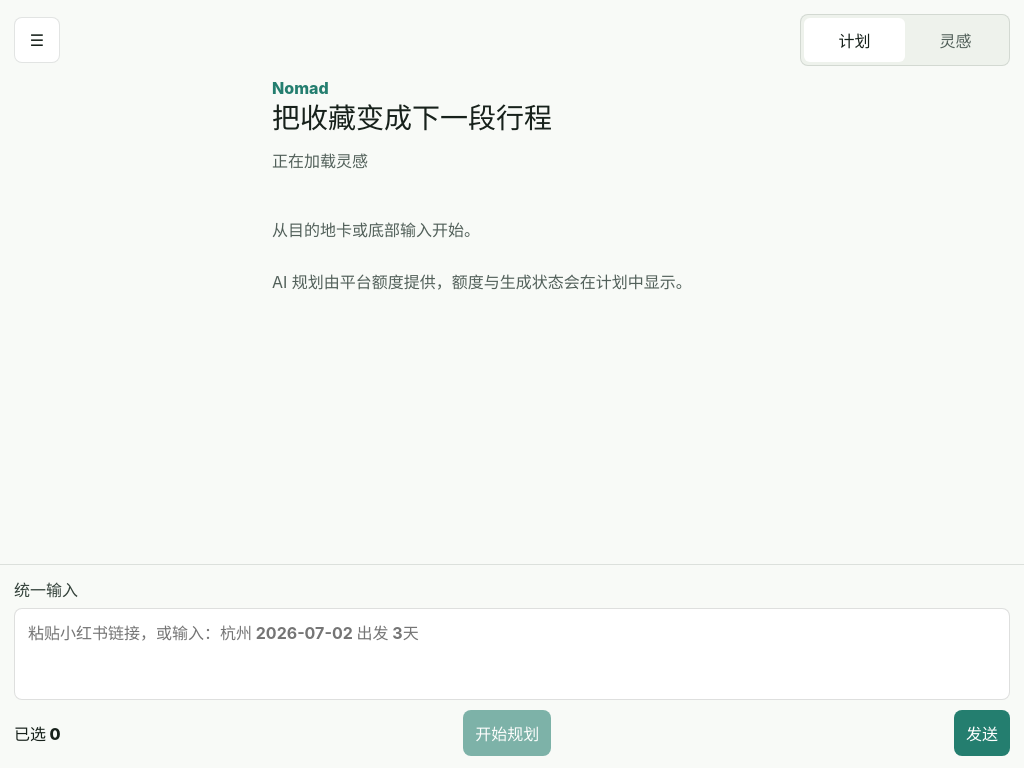
App › opens Settings from the authenticated Home menu
Click the button named "菜单". click: (37, 40)
box: [14,17,60,63]
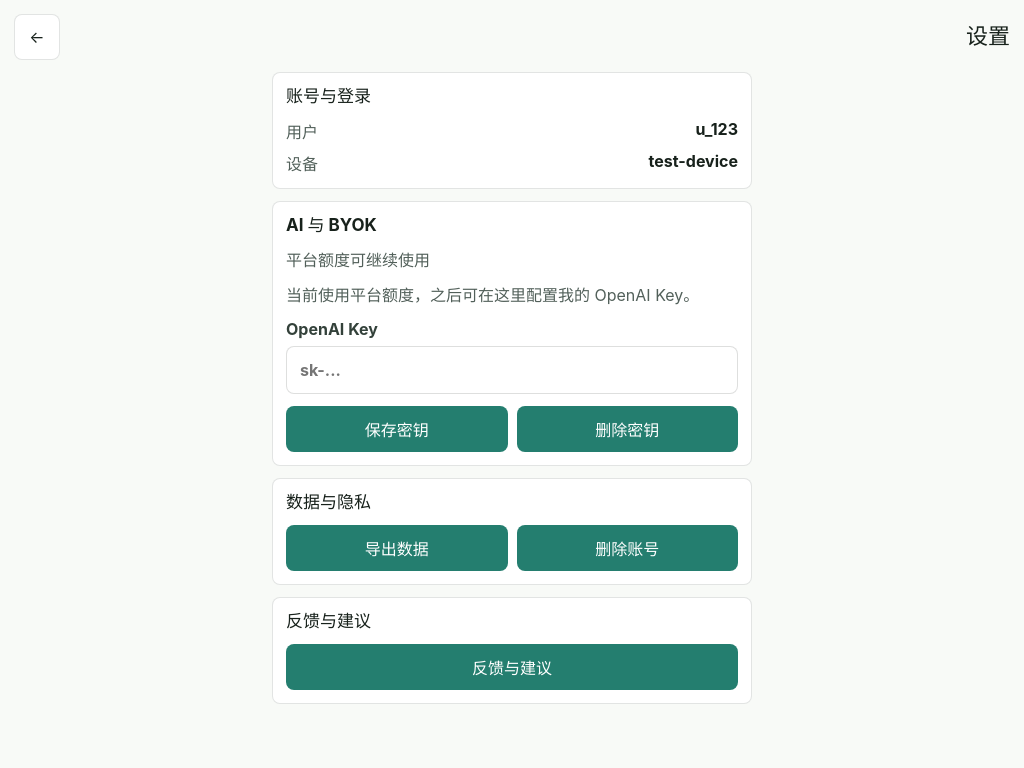
Expected: the heading "设置" is shown, [966,24,1010,50]
Expected: the text "平台额度可继续使用" is shown, [286,250,430,270]
